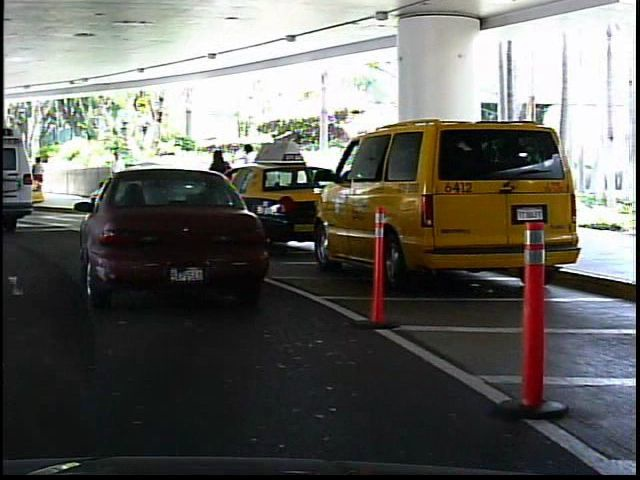person: (206, 141, 238, 210), (240, 139, 267, 210), (106, 145, 129, 204), (30, 154, 51, 199)
